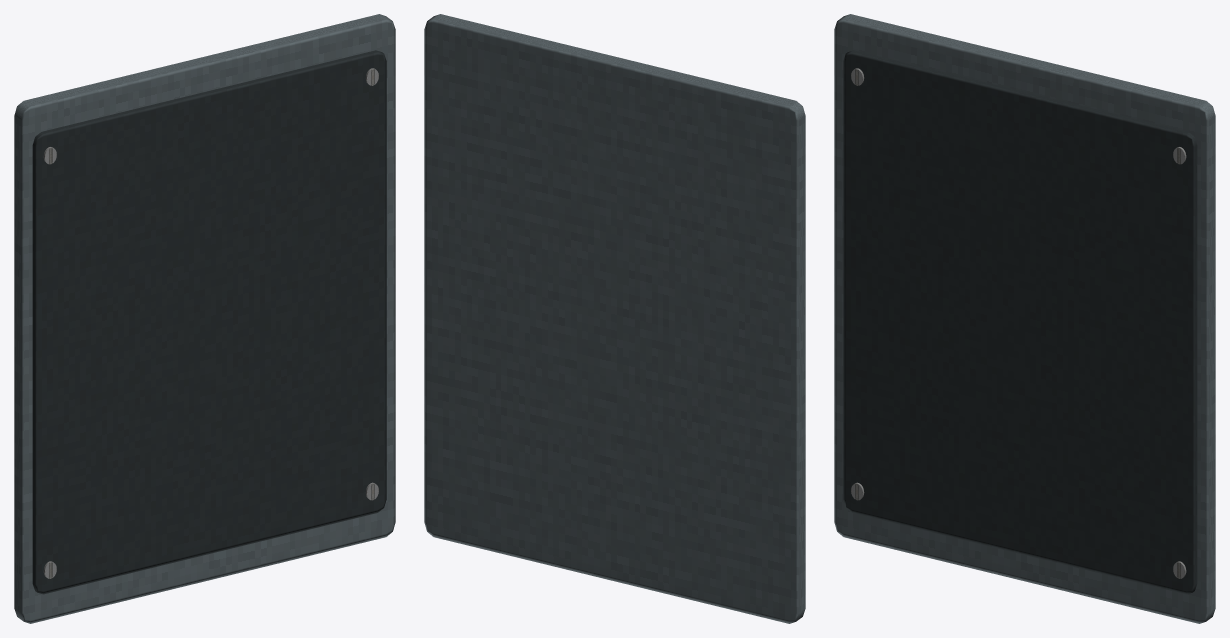
Rendered from menu.glb.
3 views of the same model, side by side, from view 1: azimuth 30°, elevation 25°; view 2: azimuth 150°, elevation 25°; view 3: azimuth 330°, elevation 25° (orthographic).
Parts seen in each view (by area): view 1: face, back; view 2: back; view 3: face, back.
Part boxes in pixels (x1,y1,x2,y2): face: [32, 50, 386, 594]; back: [14, 14, 395, 623]; back: [424, 14, 805, 623]; face: [843, 50, 1197, 594]; back: [834, 14, 1215, 623].
Size of the model in its own units: 0.59 by 0.78 by 0.0288.
Materials: 3 (3 with a texture image).
